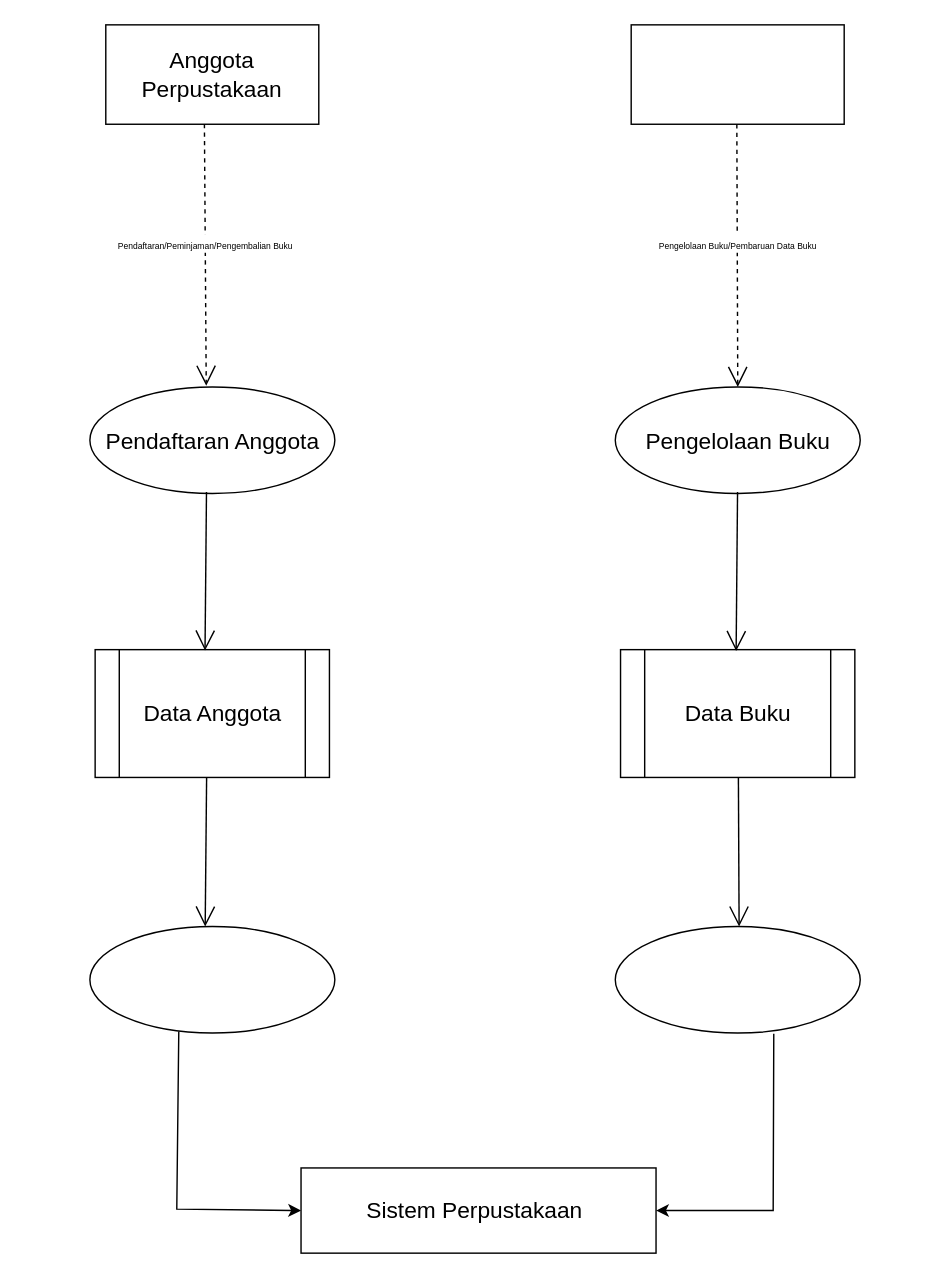
This 950x1278 diagram has some shape labels left out. The centre of each missing label's shape, as x and y in pixels:
"Peminjaman Buku" belongs at (211,979).
"Pengembalian Buku" belongs at (737,979).
"Petugas Perpustakaan" belongs at (737,73).
